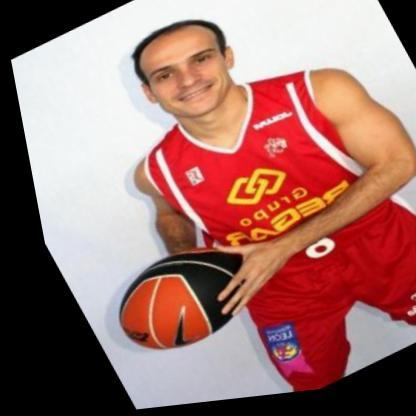basketball: (82, 229, 266, 375)
